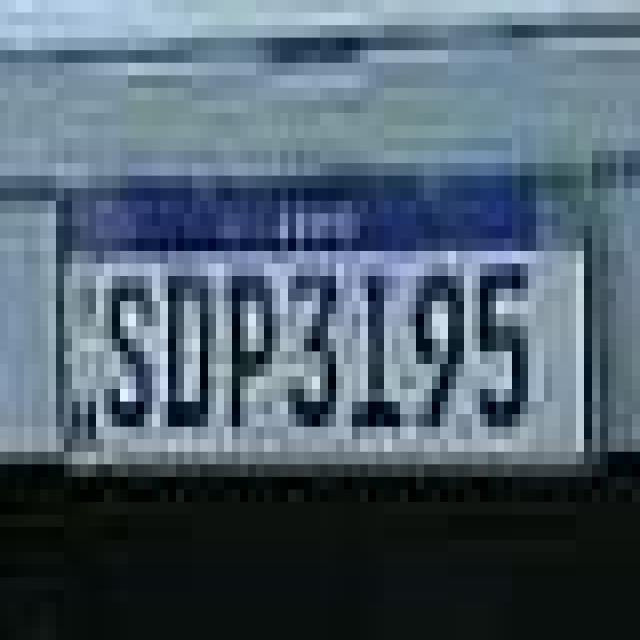3: (286, 261, 342, 435)
5: (473, 258, 535, 438)
9: (414, 262, 465, 443)
D: (162, 266, 220, 434)
I: (354, 263, 408, 432)
P: (225, 266, 282, 436)
S: (104, 271, 156, 440)
